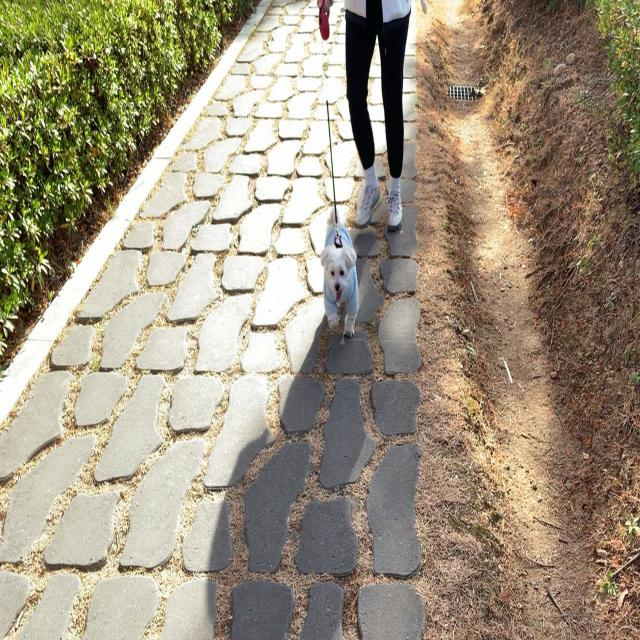Leashed_Dog: (304, 1, 360, 338)
